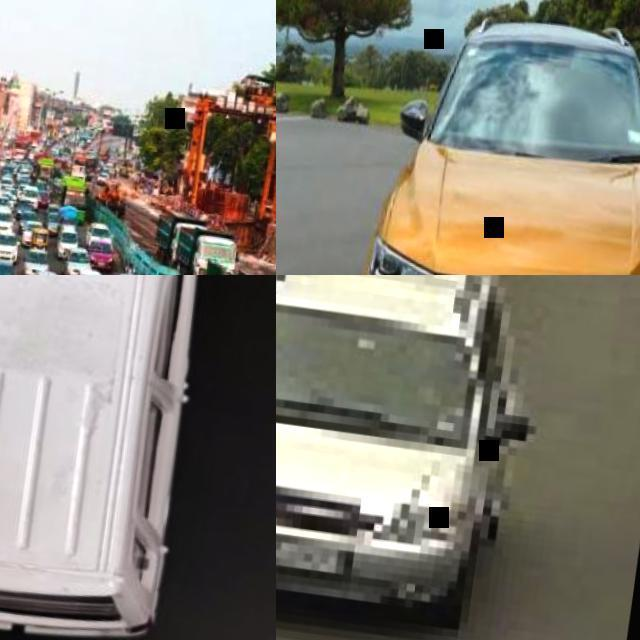car: (402, 97, 426, 136), (66, 248, 90, 274)
